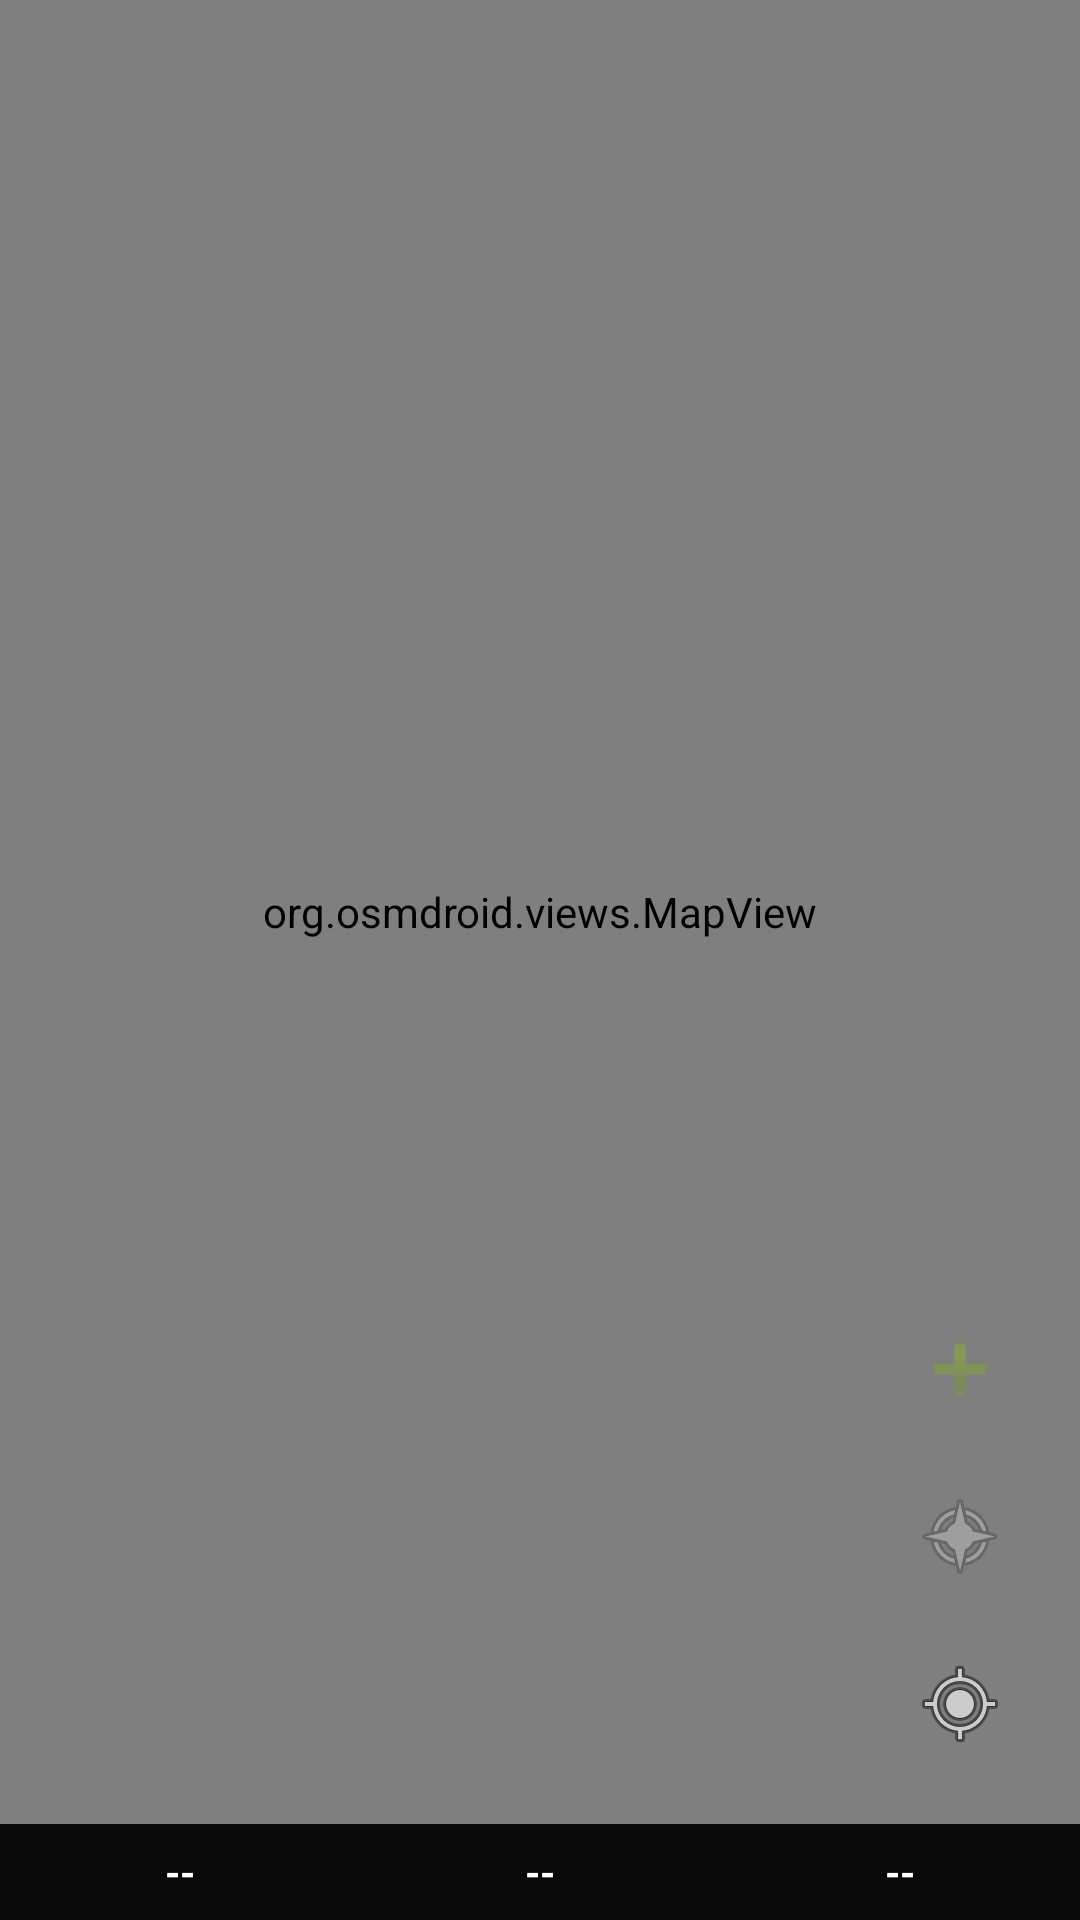

Icons on this 1080x1920 Android screen, each with the point to tap as point (x, y):
定位到当前位置: point (960, 1704)
标记路径点: point (960, 1367)
自动跟踪: point (959, 1536)
